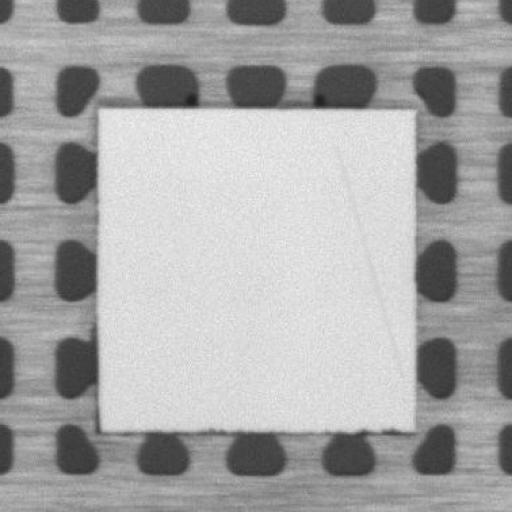DIE_CRACK: (342, 144, 408, 368)
